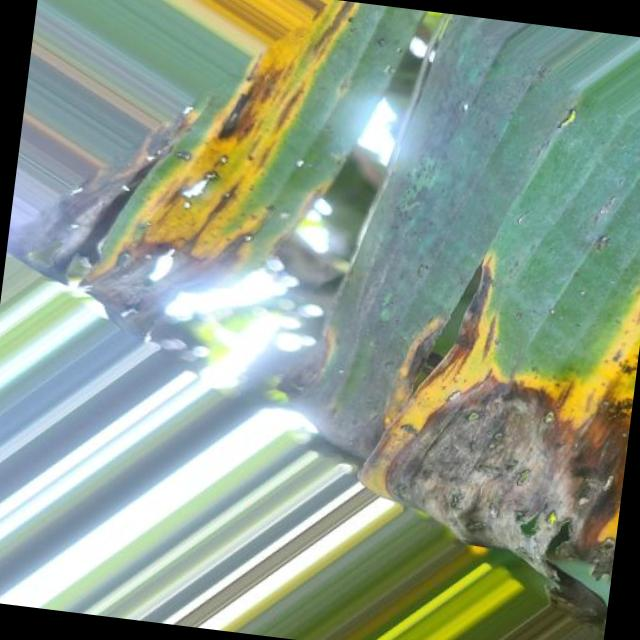Banana_Black_Sigatoka: (106, 43, 640, 526)
